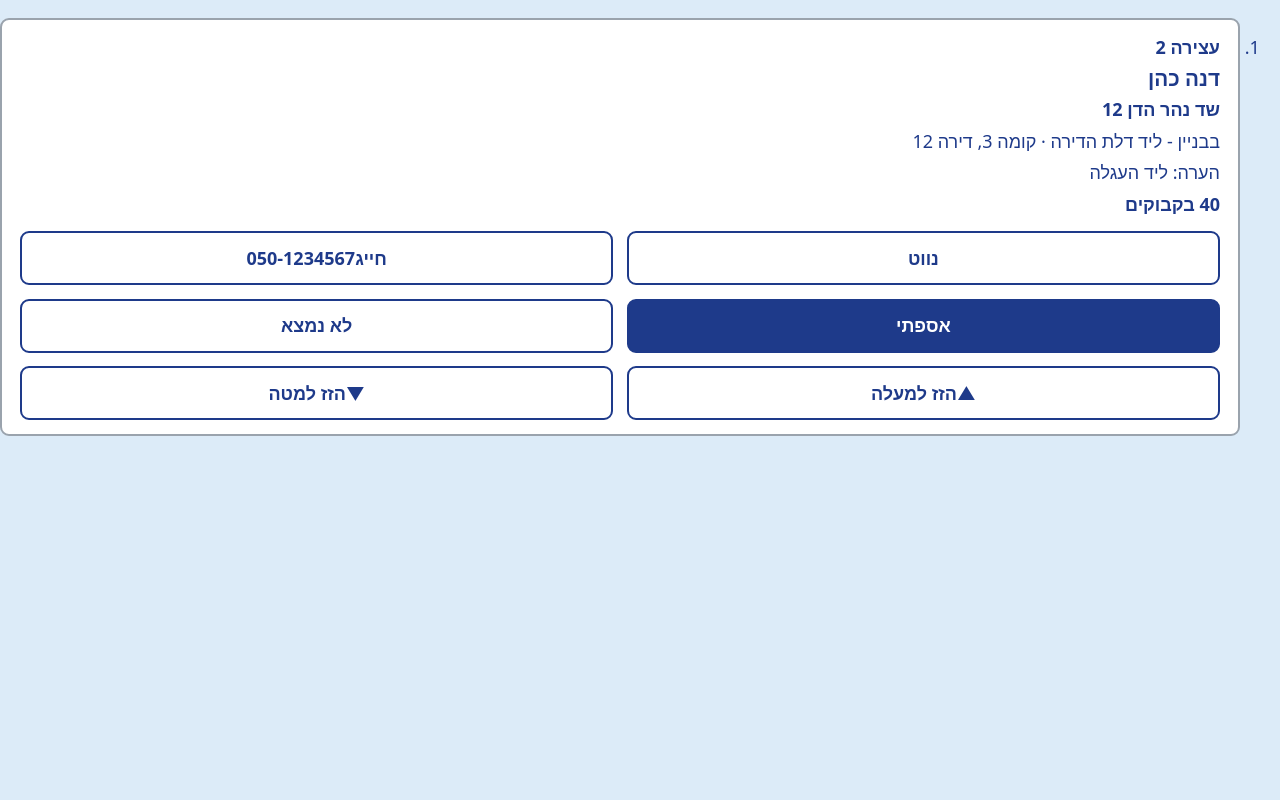
Scenario: StopCard "אספתי" › clears the message once the quantity is typed again
Click the button named "אספתי, דנה כהן" at (923, 326), box [627,299,1220,353]
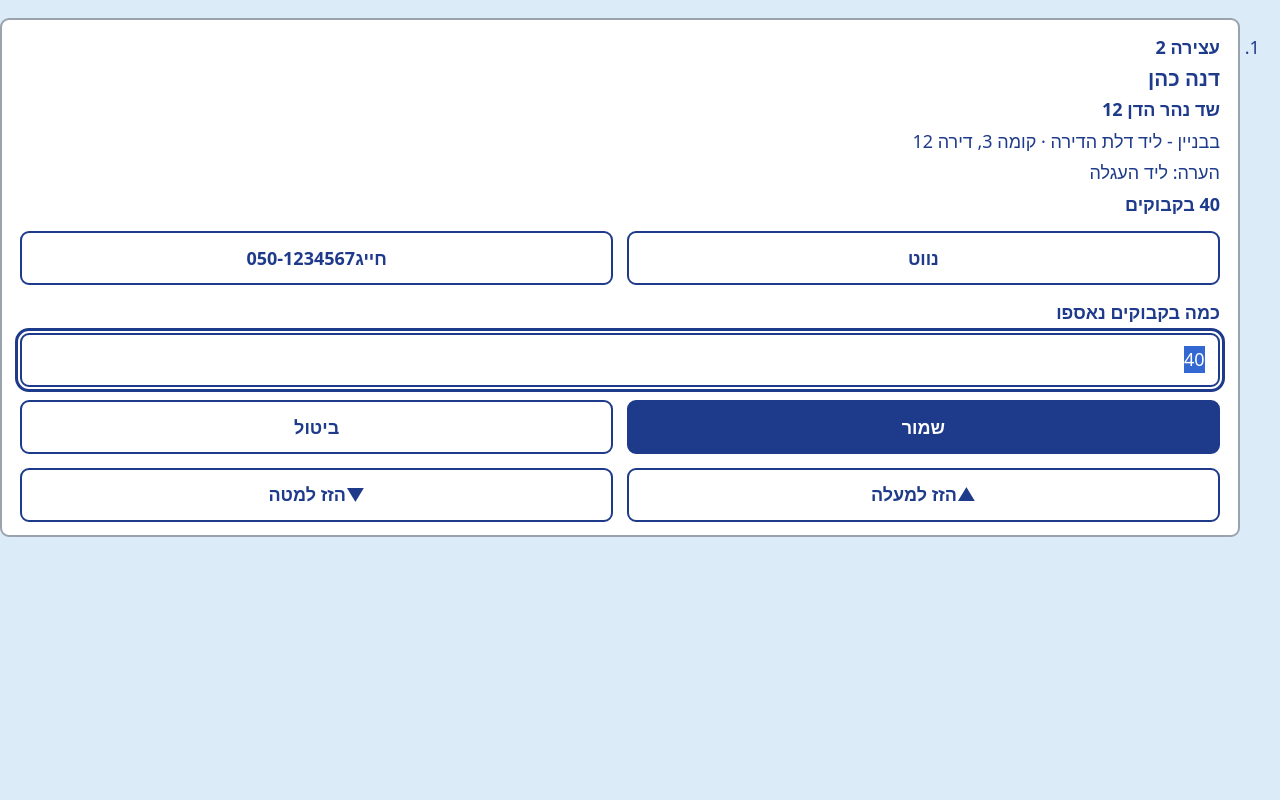
Replace the text in the field labelled "כמה בקבוקים נאספו" with "0" at (620, 360), box [20,333,1220,387]
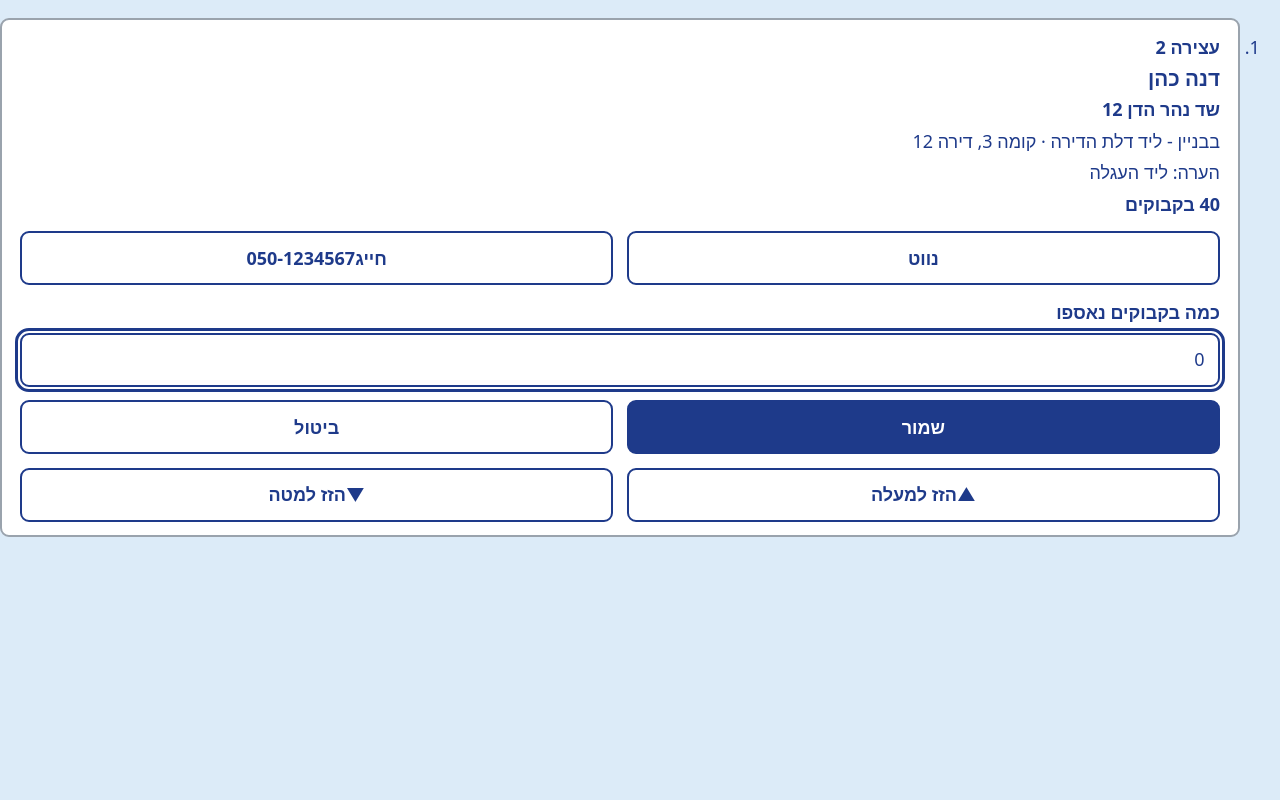
Click the button "שמור" at (923, 427), box [627,400,1220,454]
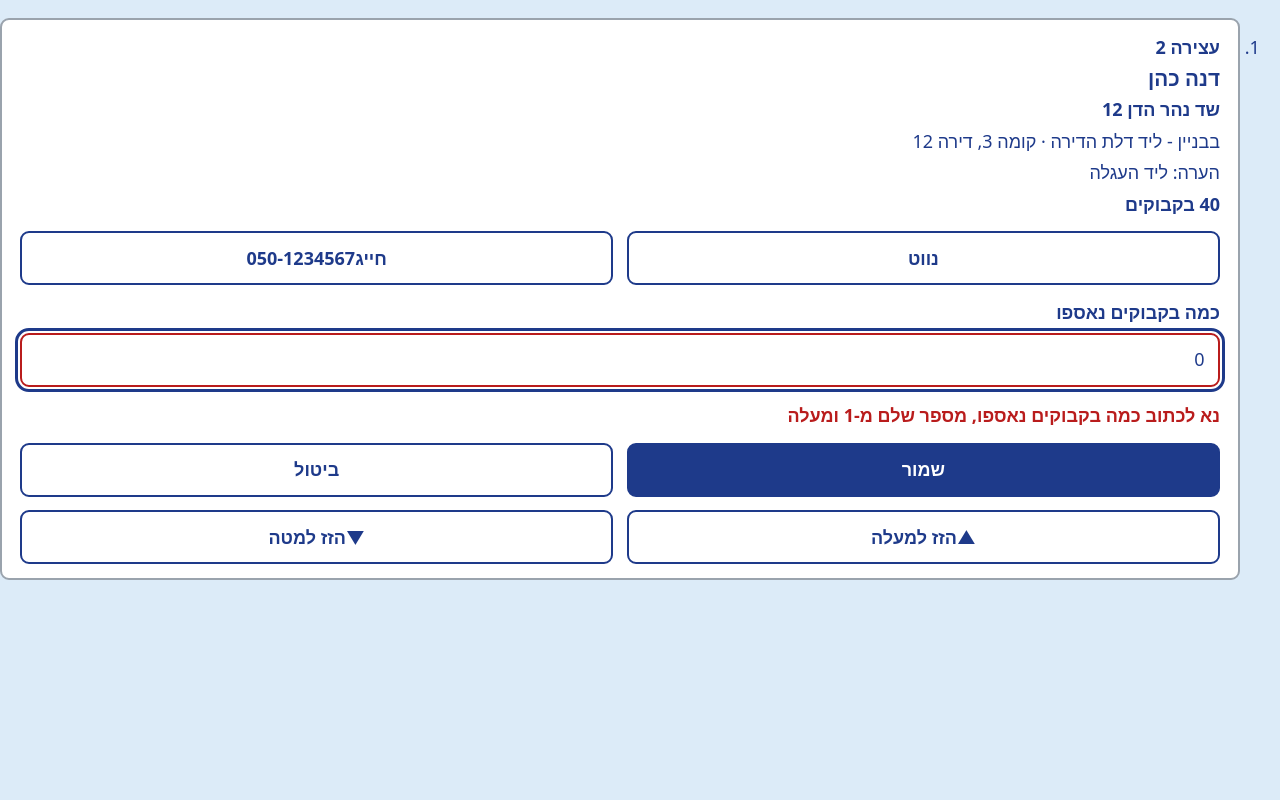
Replace the text in the field labelled "כמה בקבוקים נאספו" with "30" at (620, 360), box [20,333,1220,387]
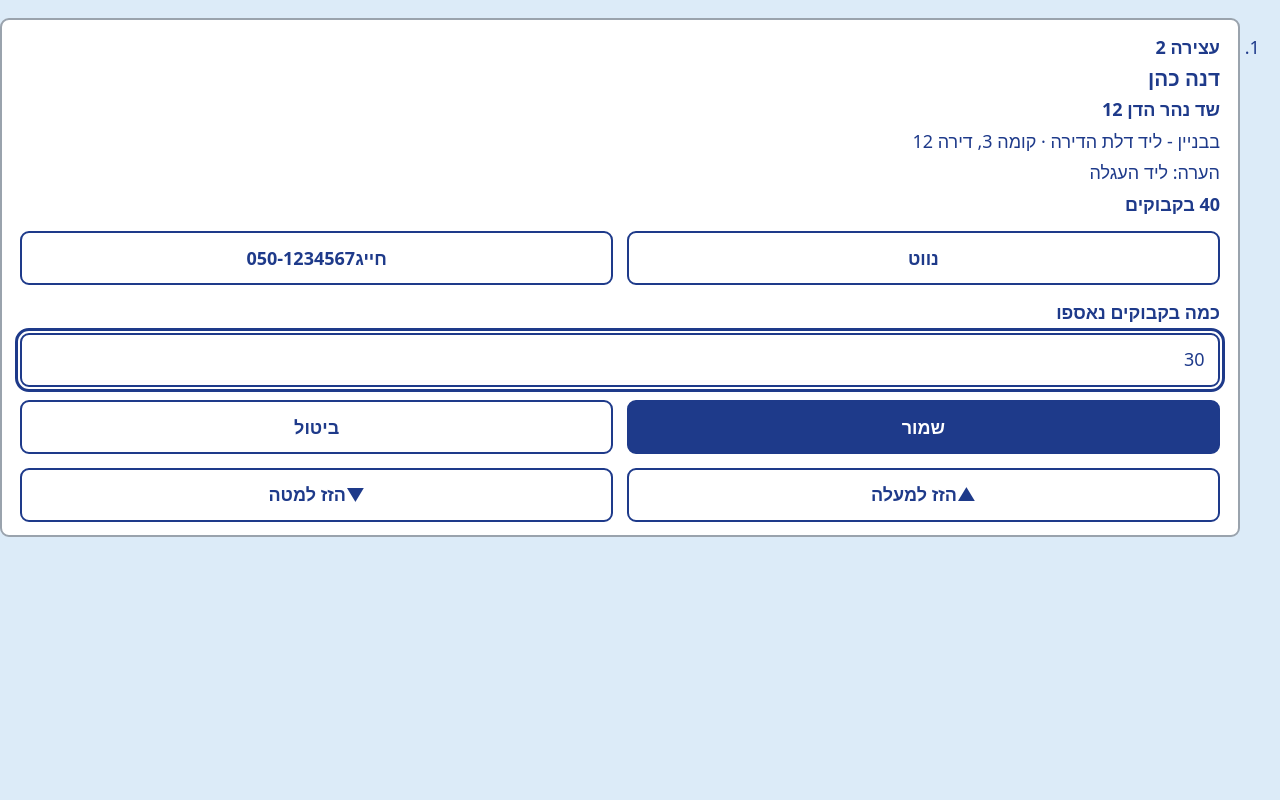
Check: the text "נא לכתוב כמה בקבוקים נאספו, מספר שלם מ-1 ומעלה" is gone
